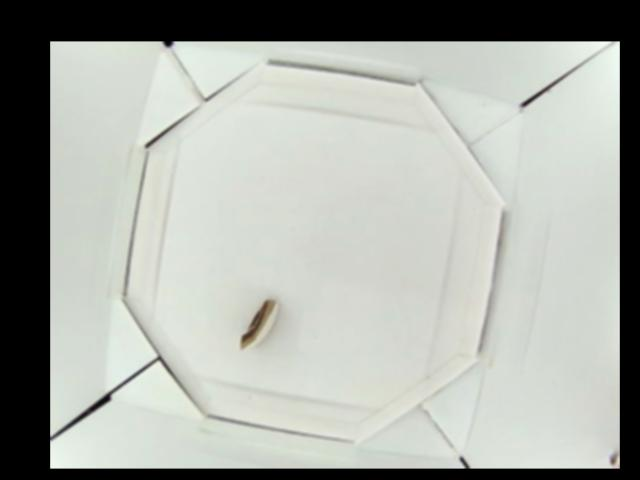China: (239, 297, 281, 350)
